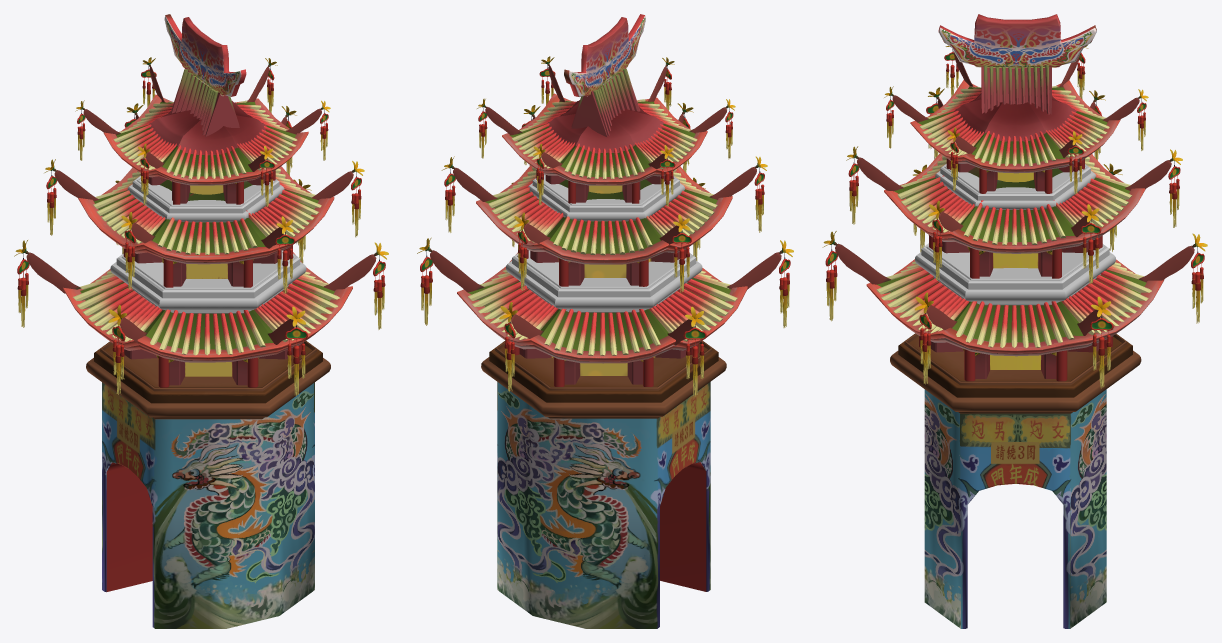
Rendered from tower.fbx.
The picture shows the model from 3 angles, left to right: view 1: azimuth 30°, elevation 25°; view 2: azimuth 150°, elevation 25°; view 3: azimuth 270°, elevation 25°; orthographic projection. The views are drawn at different scales.
Parts seen in each view (by area): view 1: tower.035, tower.051, tower, tower.023, tower.025, tower.028, tower.026, tower.024, tower.048, tower.034, tower.036, tower.030 (+24 smaller); view 2: tower.035, tower.051, tower, tower.023, tower.025, tower.028, tower.026, tower.024, tower.048, tower.033, tower.030, tower.034 (+24 smaller); view 3: tower.035, tower.051, tower, tower.048, tower.023, tower.025, tower.028, tower.026, tower.024, tower.031, tower.037, tower.030 (+24 smaller).
Part boxes in pixels (box(x1,y1,x2,y2)): tower.035: box(86, 341, 330, 628); tower.051: box(110, 250, 306, 313); tower: box(148, 67, 266, 155); tower.023: box(80, 278, 334, 385); tower.025: box(94, 179, 318, 286); tower.028: box(63, 252, 352, 362); tower.026: box(127, 176, 284, 222); tower.024: box(78, 166, 334, 264); tower.048: box(164, 14, 246, 96); tower.034: box(73, 278, 162, 341); tower.036: box(150, 309, 265, 355); tower.030: box(116, 102, 295, 203); tower.035: box(481, 340, 726, 628); tower.051: box(506, 250, 702, 312); tower: box(547, 67, 664, 153); tower.023: box(468, 278, 730, 384); tower.025: box(485, 179, 717, 285); tower.028: box(457, 252, 747, 363); tower.026: box(528, 174, 684, 221); tower.024: box(476, 165, 732, 264); tower.048: box(564, 14, 645, 96); tower.033: box(544, 308, 660, 355); tower.030: box(509, 101, 695, 202); tower.034: box(649, 279, 737, 341); tower.035: box(890, 333, 1141, 628); tower.051: box(915, 243, 1115, 305); tower: box(953, 64, 1076, 141); tower.048: box(938, 14, 1096, 68); tower.023: box(877, 269, 1146, 378); tower.025: box(894, 167, 1130, 276); tower.028: box(866, 259, 1164, 356); tower.026: box(935, 164, 1095, 209); tower.024: box(884, 153, 1145, 253); tower.031: box(956, 301, 1074, 347); tower.037: box(876, 269, 969, 333); tower.030: box(918, 87, 1107, 191).
Size of the model in its own units: 326 by 597 by 364.
